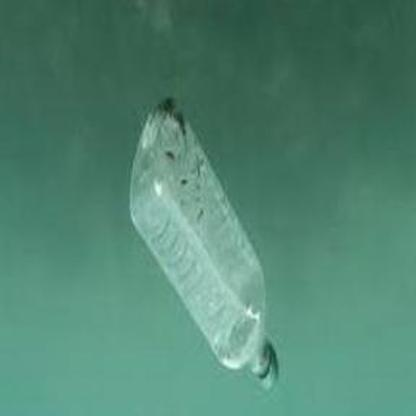plastic bottle: (128, 100, 278, 392)
